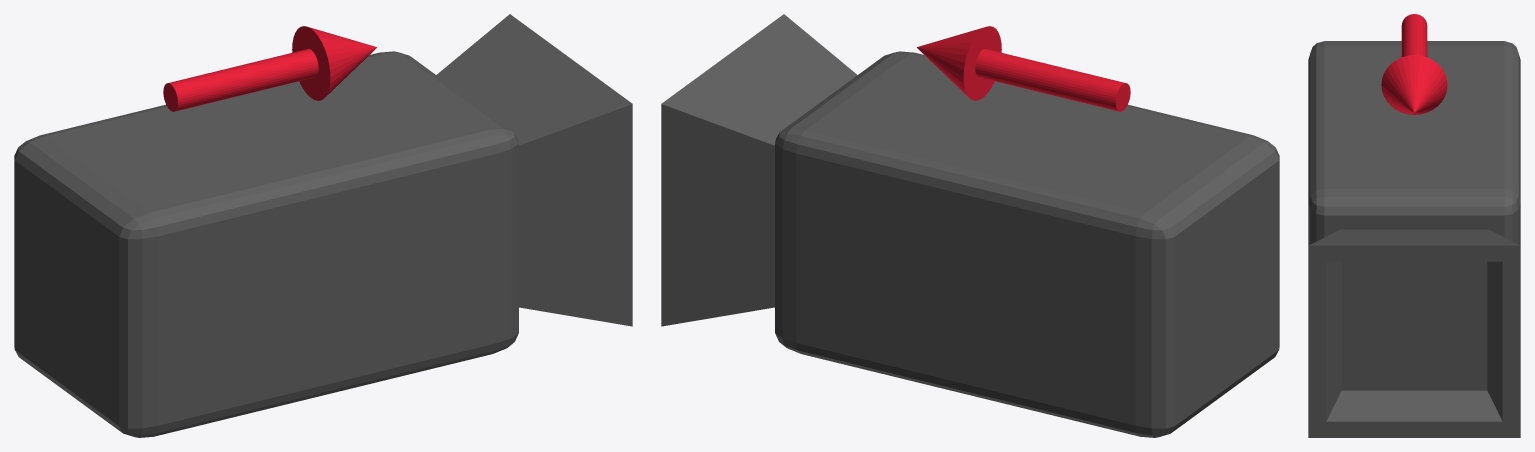
File: camera.glb
The picture shows the model from 3 angles, left to right: view 1: azimuth 30°, elevation 25°; view 2: azimuth 150°, elevation 25°; view 3: azimuth 270°, elevation 25°; orthographic projection. The views are drawn at different scales.
Parts seen in each view (by area): view 1: Cube, Cube.001; view 2: Cube, Cube.001; view 3: Cube, Cube.001.
Part boxes in pixels (bbox=[...]): Cube: bbox=[14, 14, 632, 437]; Cube.001: bbox=[163, 26, 376, 111]; Cube: bbox=[661, 14, 1279, 437]; Cube.001: bbox=[917, 26, 1130, 111]; Cube: bbox=[1308, 41, 1520, 437]; Cube.001: bbox=[1381, 14, 1447, 114].
Bounding box in the file's own units: 4.74 × 2.84 × 2.
